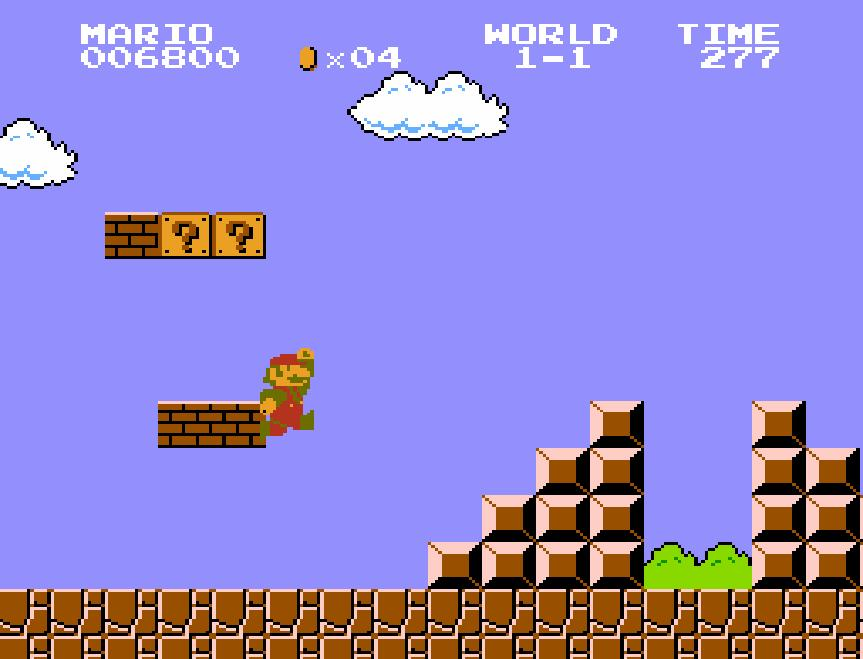big_mario: (257, 346, 315, 444)
